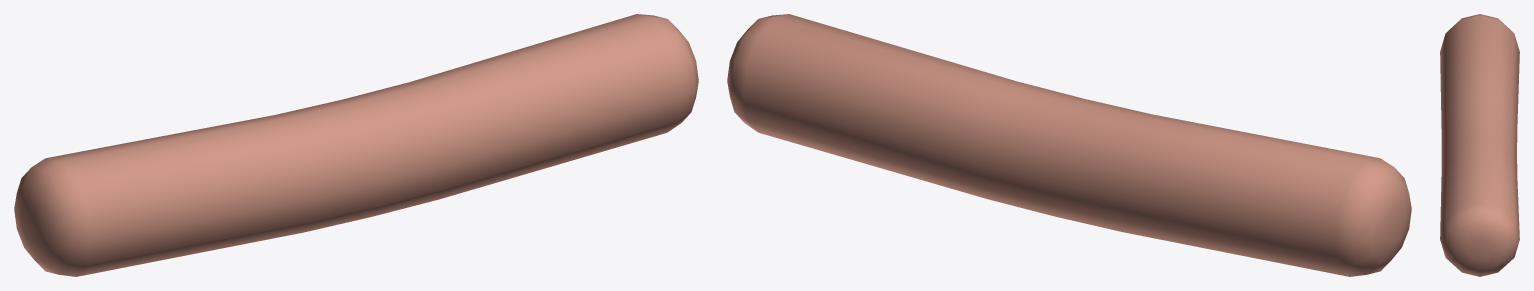
File: Sausage.fbx
3 renders of one model, left to right at view 1: azimuth 30°, elevation 25°; view 2: azimuth 150°, elevation 25°; view 3: azimuth 270°, elevation 25°, orthographic. The views are drawn at different scales.
Parts seen in each view (by area): view 1: Sausage; view 2: Sausage; view 3: Sausage.
Part boxes in pixels (box(x1,y1,x2,y2)): Sausage: box(14, 14, 698, 276); Sausage: box(727, 14, 1411, 276); Sausage: box(1440, 14, 1519, 276).
Size of the model in its own units: 160 by 25.95 by 28.84.
